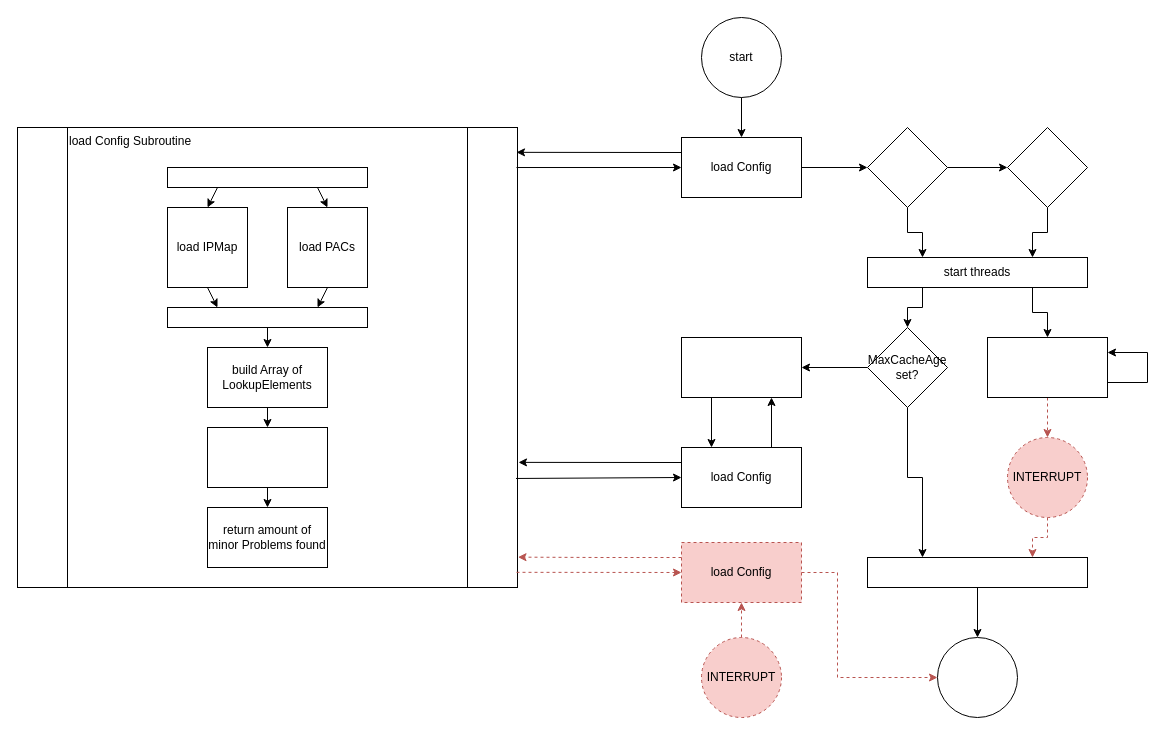
Some shapes in this 1173 by 735 pixel diagram are drawn without their labels. Here are the shapes that lost their labels. From the top down, the centre of each, then its label:
(907,167): minor Problems?
(1047,167): ignoreMinors set?
(741,367): wait MaxCacheAge Seconds
(1047,367): serve requests
(267,457): convert Array to Tree
(977,677): exit
